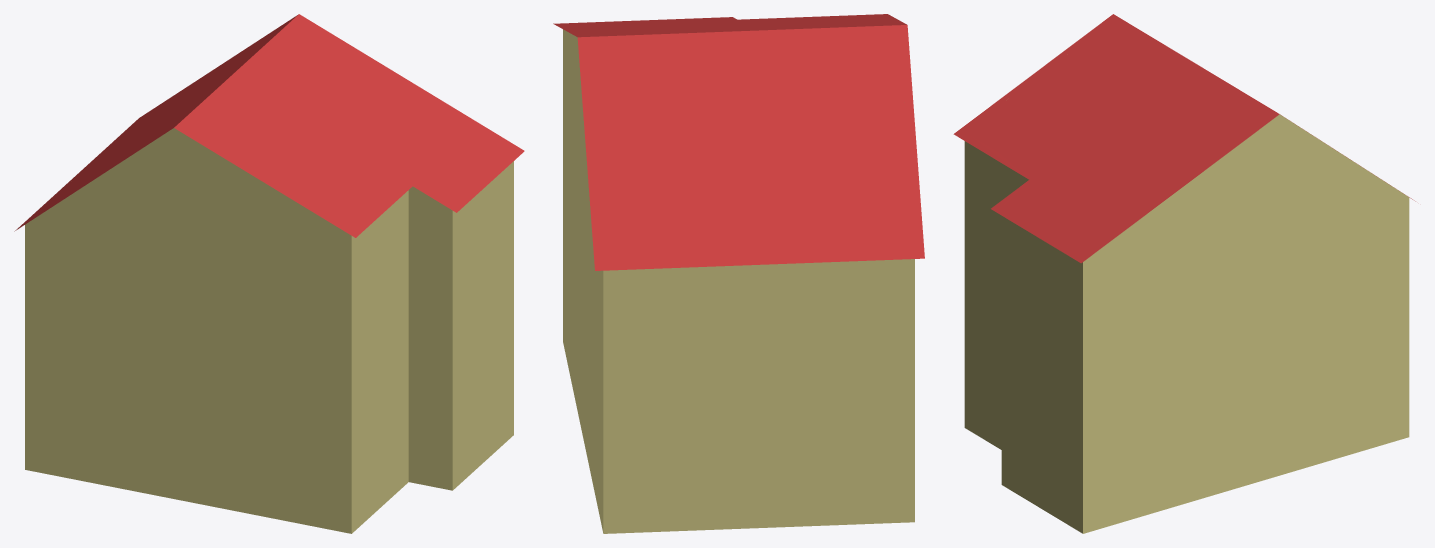
3 views of the same model, side by side, from view 1: azimuth 30°, elevation 25°; view 2: azimuth 150°, elevation 25°; view 3: azimuth 270°, elevation 25° (orthographic). The views are drawn at different scales.
Size of the model in its own units: 14.7 by 14.44 by 12.47.
